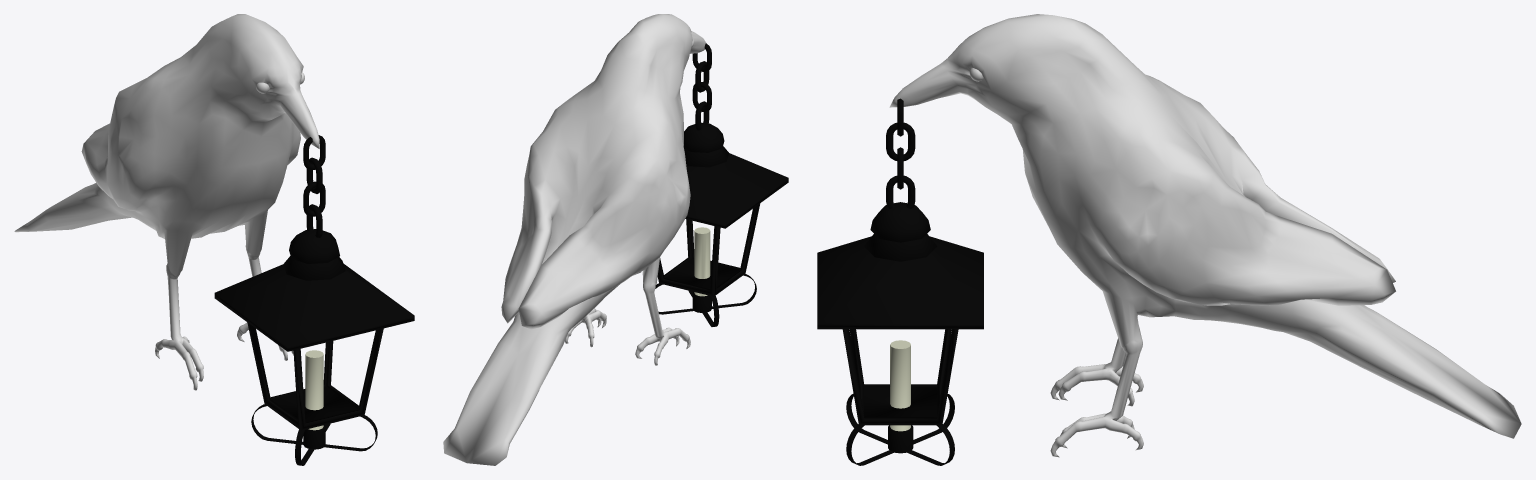
The model's file is birdlamp.fbx.
3 renders of one model, left to right at view 1: azimuth 30°, elevation 25°; view 2: azimuth 150°, elevation 25°; view 3: azimuth 270°, elevation 25°, orthographic. The views are drawn at different scales.
Parts seen in each view (by area): view 1: crow_body, Lp_3.001, Lp_3; view 2: crow_body, Lp_3.001, Lp_3; view 3: crow_body, Lp_3.001, Lp_3.
Boxes of the visible parts, bbox=[...] form: crow_body: bbox=[14, 14, 319, 390]; Lp_3.001: bbox=[214, 135, 414, 465]; Lp_3: bbox=[305, 350, 323, 430]; crow_body: bbox=[443, 14, 705, 465]; Lp_3.001: bbox=[655, 43, 788, 326]; Lp_3: bbox=[694, 227, 710, 296]; crow_body: bbox=[889, 14, 1521, 457]; Lp_3.001: bbox=[817, 98, 983, 465]; Lp_3: bbox=[890, 340, 910, 431].
Bounding box in the file's own units: 465 × 980 × 1445.
